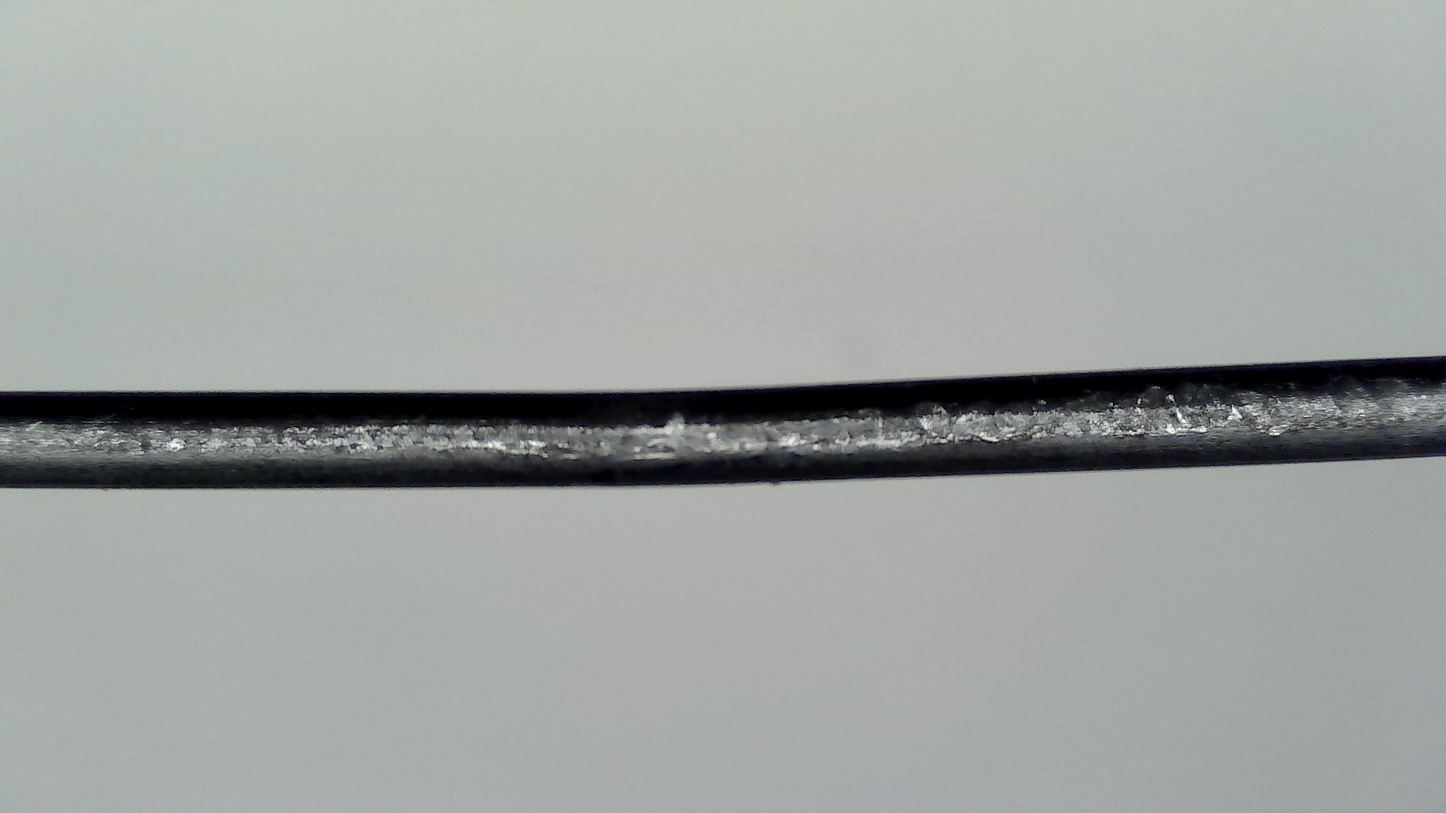defect: (472, 373, 923, 432)
